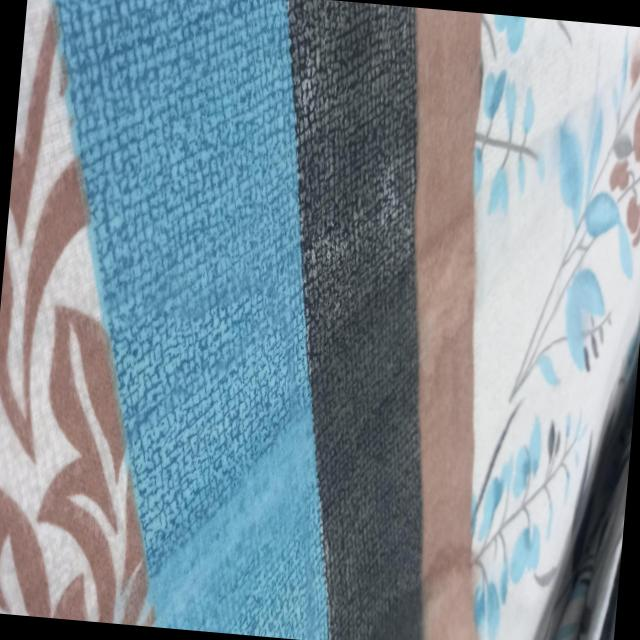baekra: (433, 20, 640, 640)
